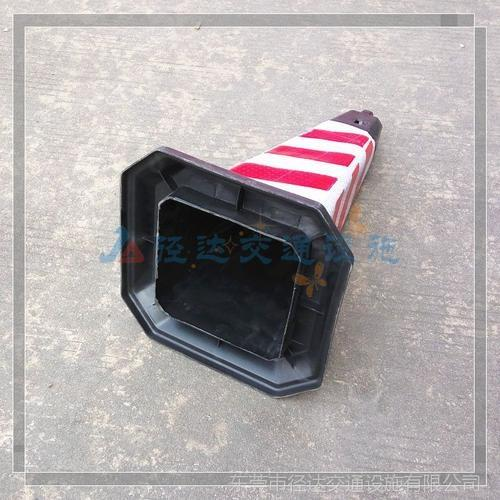cone_barrel: (219, 106, 390, 228)
